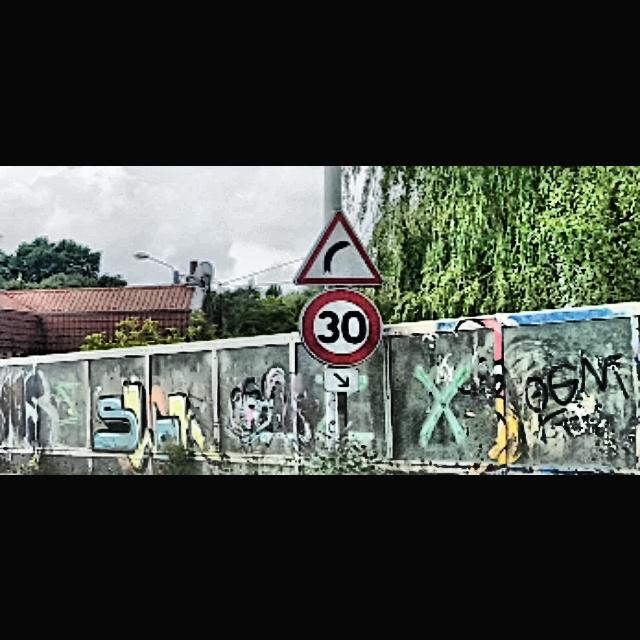speed_30: (298, 289, 384, 367)
